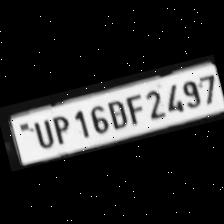1: (66, 105, 90, 140)
2: (140, 84, 166, 120)
4: (158, 78, 184, 114)
6: (84, 100, 110, 136)
7: (195, 68, 222, 106)
9: (174, 74, 200, 110)
D: (101, 94, 128, 130)
F: (122, 90, 146, 124)
P: (46, 110, 74, 144)
U: (26, 114, 55, 150)
